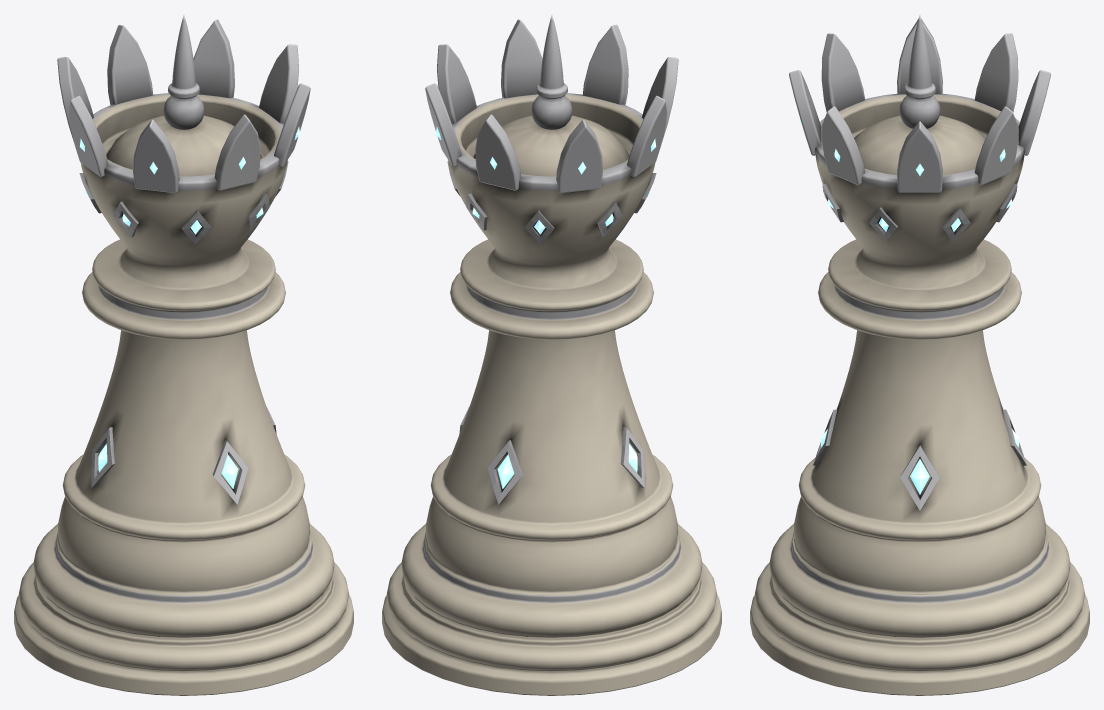
File: queen.glb
The picture shows the model from 3 angles, left to right: view 1: azimuth 30°, elevation 25°; view 2: azimuth 150°, elevation 25°; view 3: azimuth 270°, elevation 25°; orthographic projection.
Visible parts, largest first — view 1: queen; view 2: queen; view 3: queen.
Part boxes in pixels (x1,y1,x2,y2): queen: (14, 15, 353, 695); queen: (382, 15, 721, 695); queen: (750, 15, 1089, 695).
Size of the model in its own units: 0.74 by 1.47 by 0.74.
